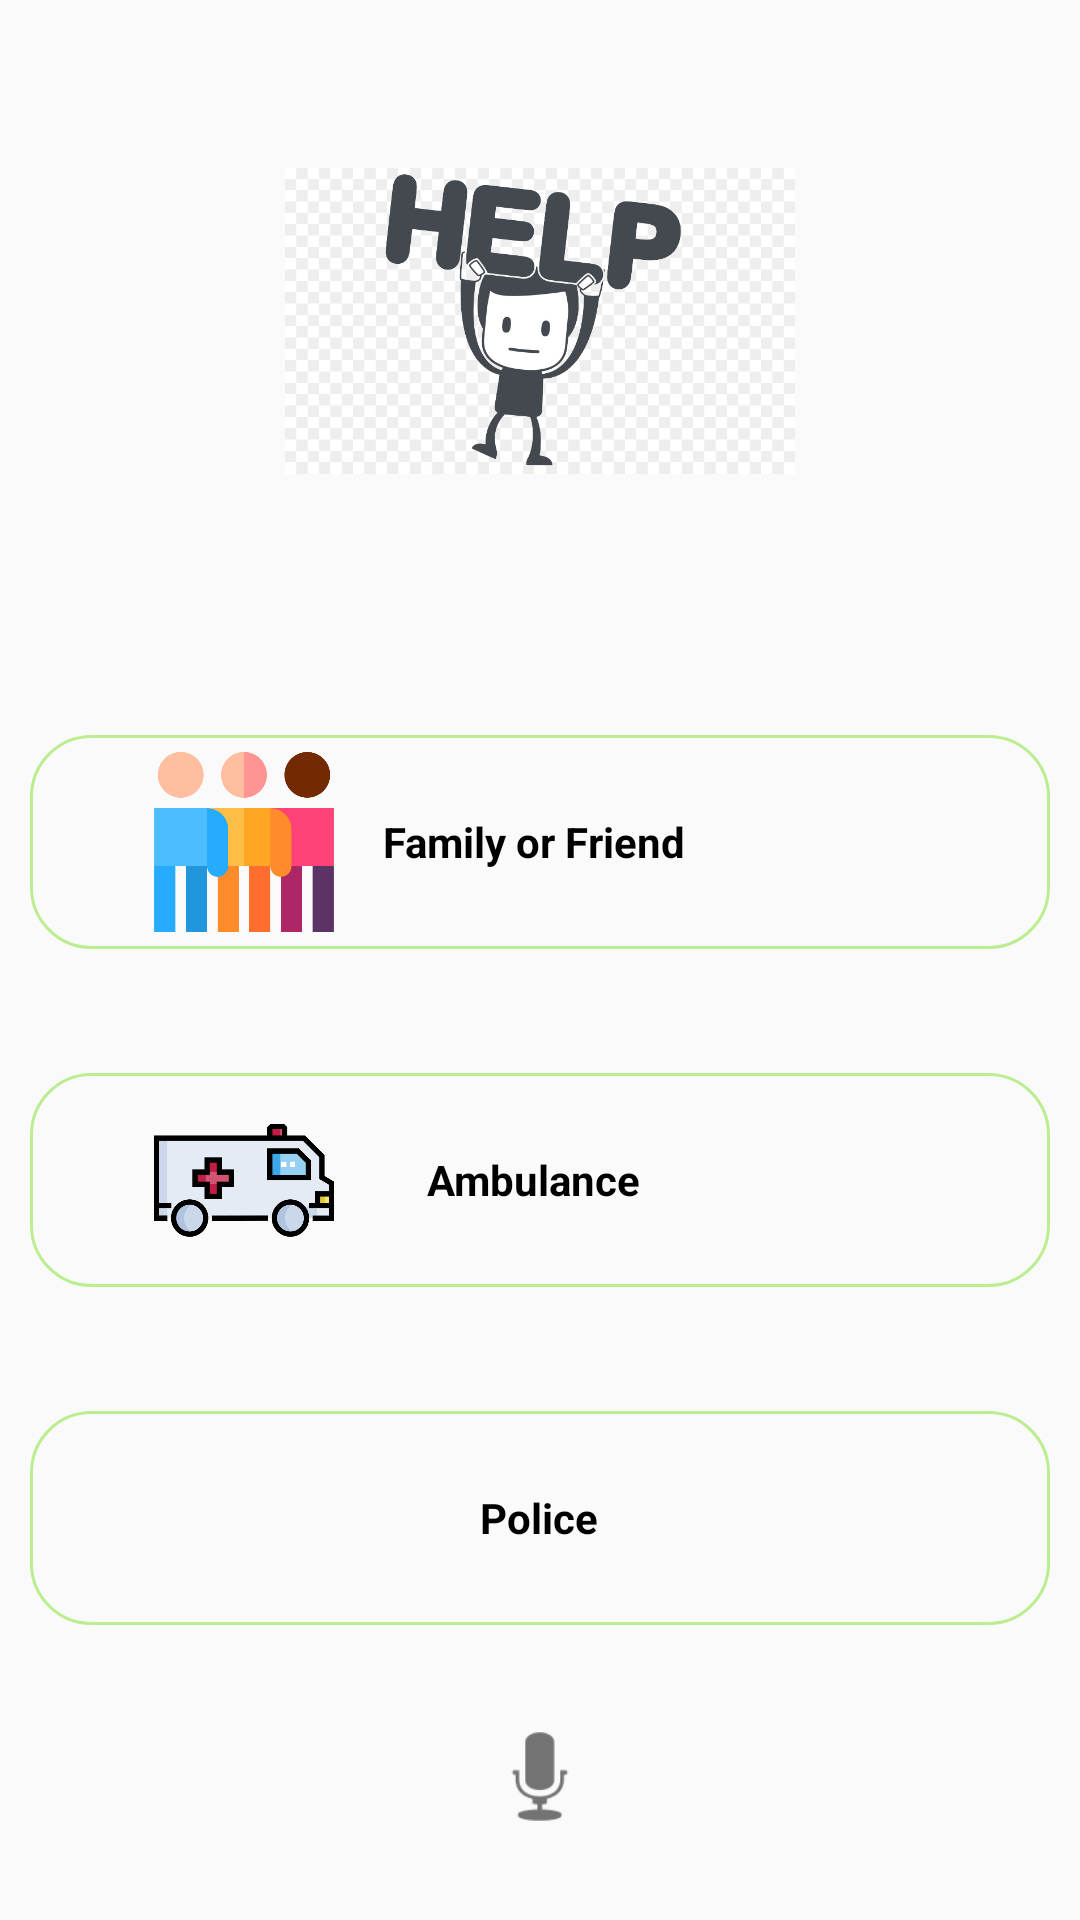

Point at icon controls on the screen. Image size 1080w x 1920h, points as [x,y].
people: [244,842]
speak now: [540,1776]
